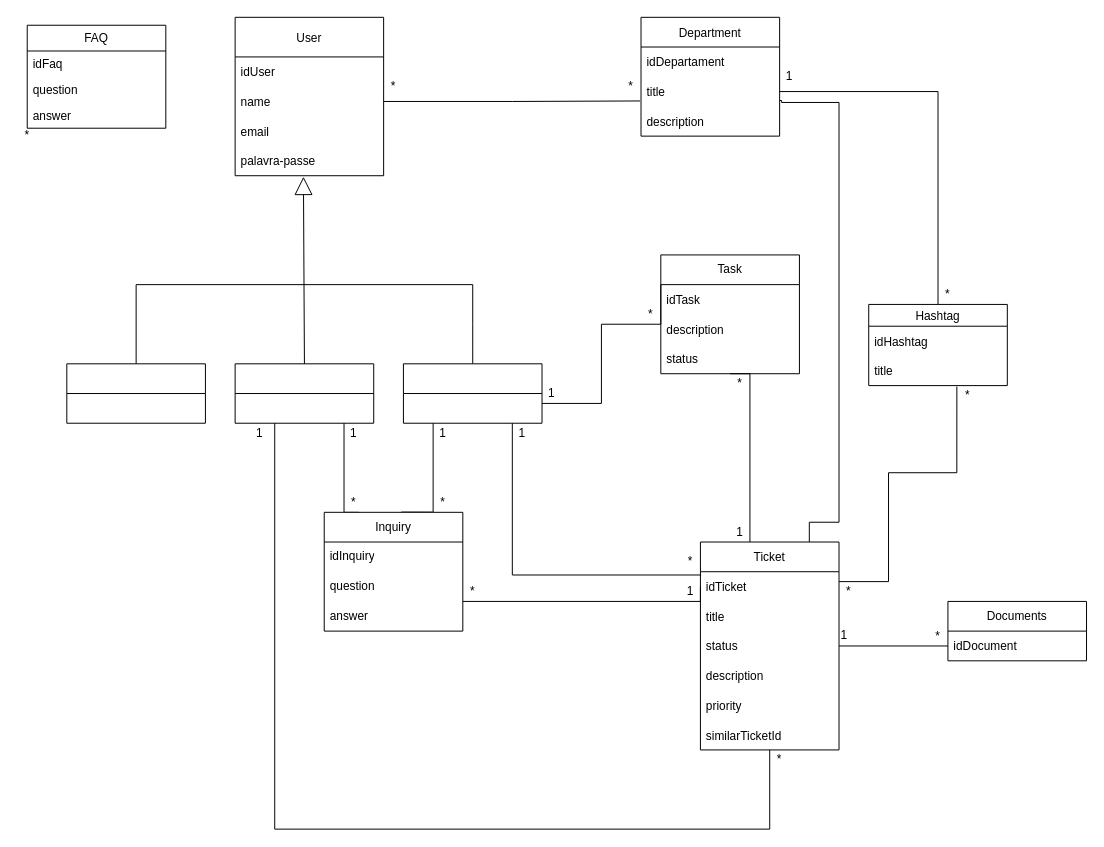
Image size: 1104x847. Some labels were removed from this diagram. The centre of each missing label's shape, as x and y in pixels:
"Admin" belongs at (135,393).
"Agent" belongs at (472,393).
"Client" belongs at (304,393).
